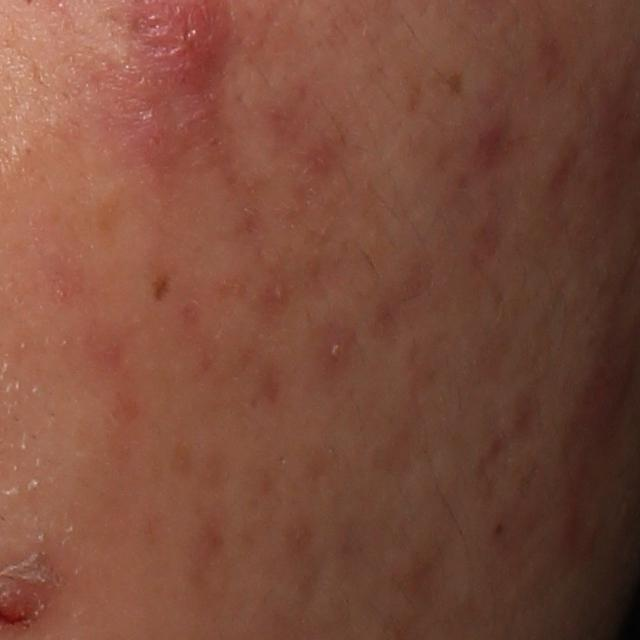nevus: (148, 266, 174, 305)
